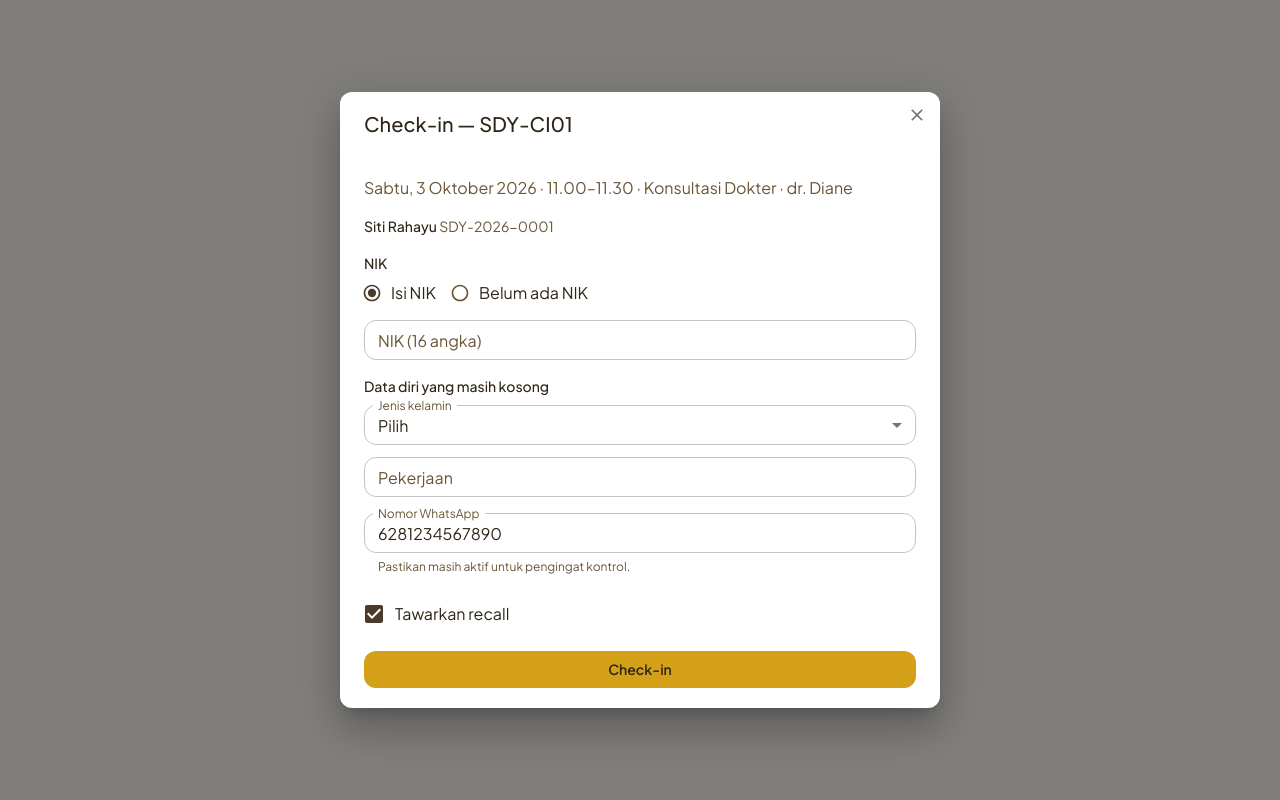
Test case: CheckInDialog › memperingatkan bila jenis kelamin di NIK berbeda, tanpa menghalangi
Select "Laki-laki" in the dropdown labelled "Jenis kelamin" at (640,425), box [364,405,916,445]
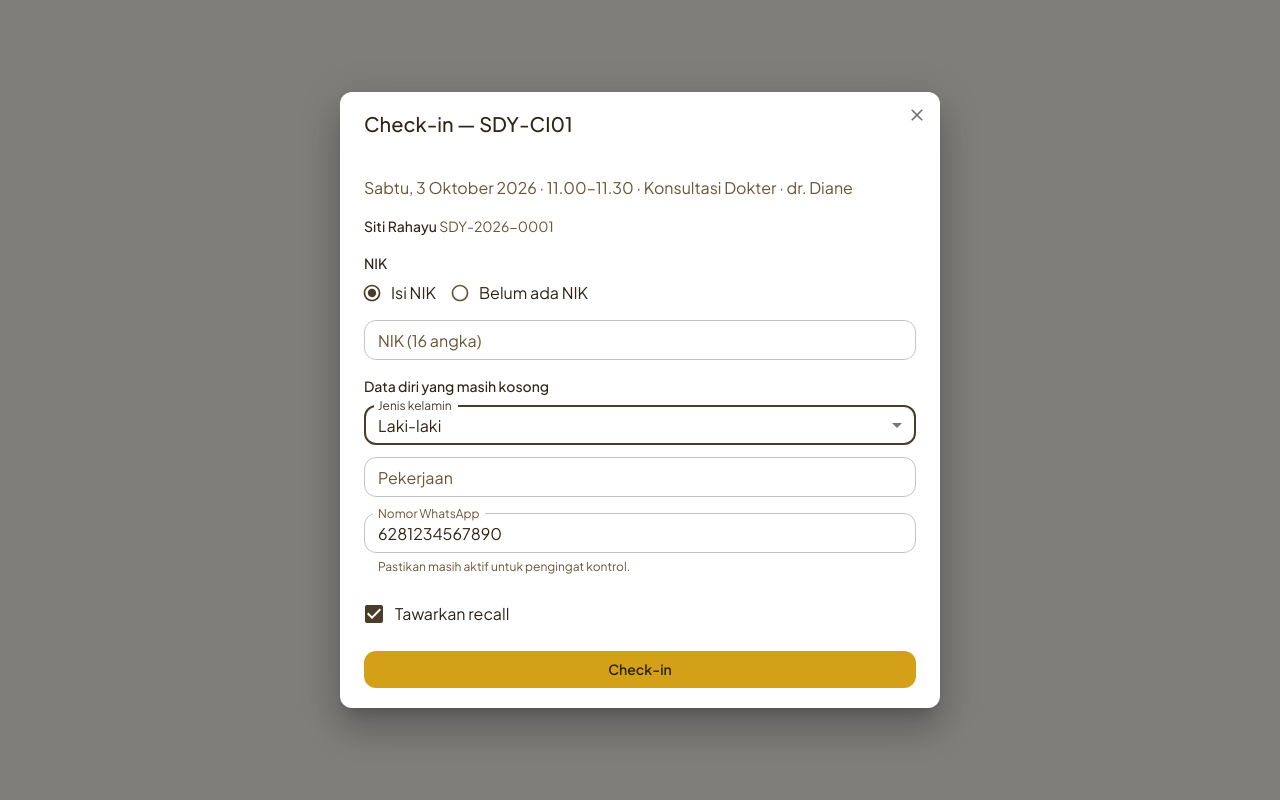
Type "7171015705900001" into the field labelled "NIK (16 angka)".
click(640, 340); type("7171015705900001")  # box [364,320,916,360]
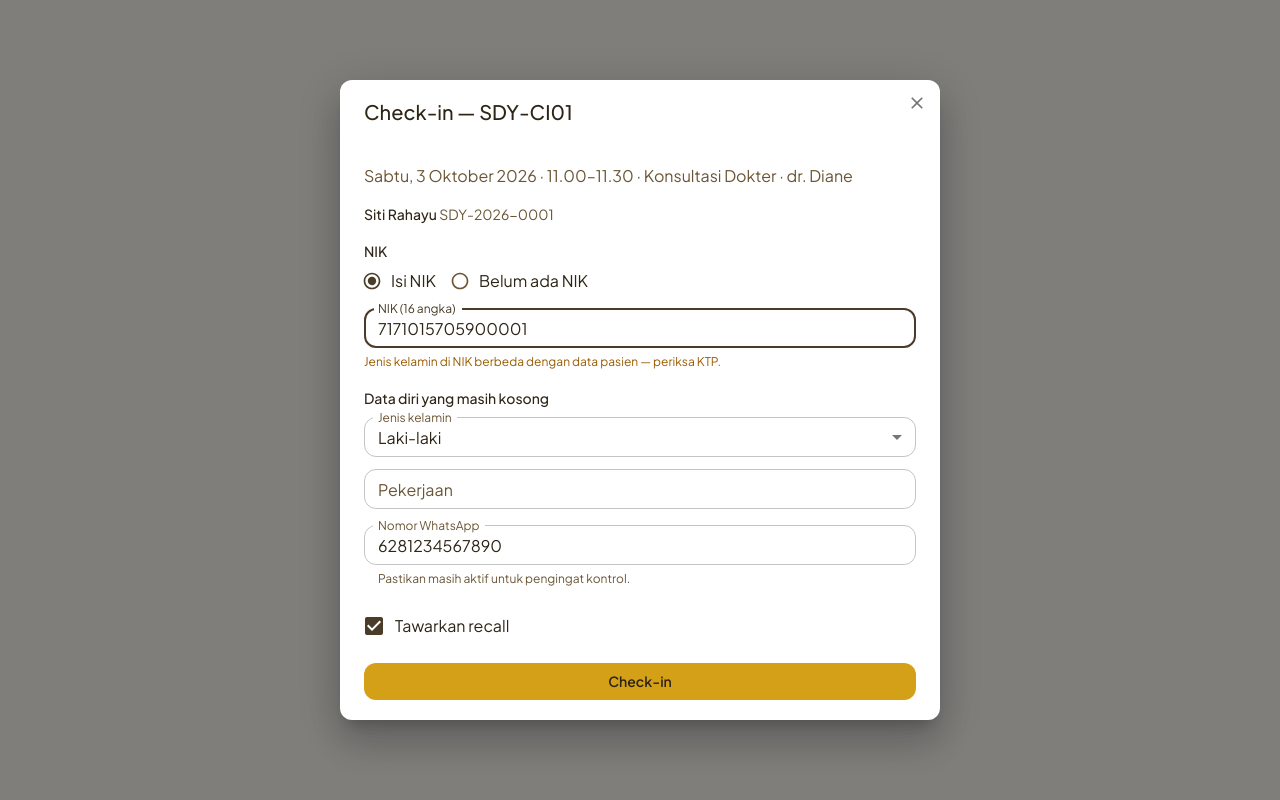
Result: the text "Jenis kelamin di NIK berbeda dengan data pasien — periksa KTP." is shown at [364,354,721,369]
